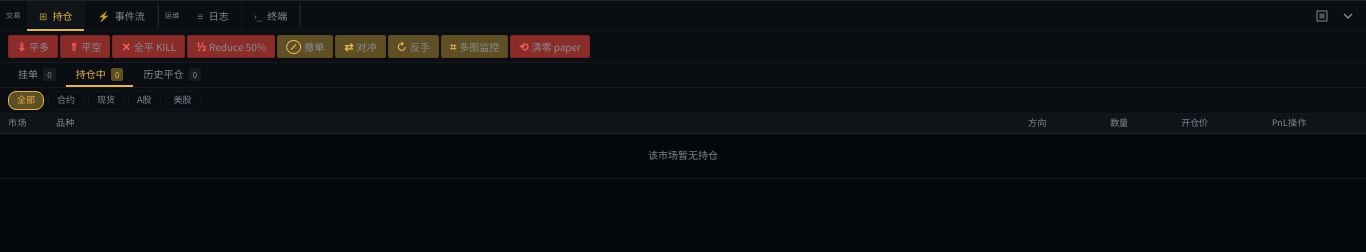
it: 异动待批条 — 只在有料/出错时现身 › 读接口挂掉 → 明说「不可达」,不降级成「暂无待批」
What coordinates should you click on to do the following:
click the button with class "dtab" showing "⚡ 事件流"
I would click on:
 (122, 16)
Its box is left=85, top=1, right=158, bottom=30.
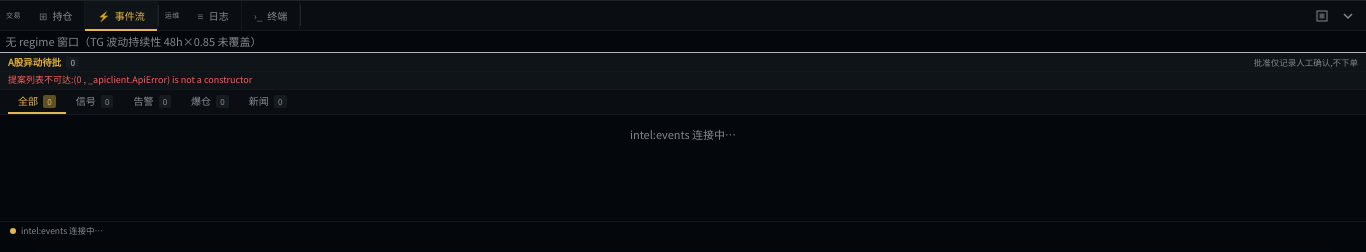
Check: the text with class "ap-error" shows "不可达", box left=8, top=73, right=252, bottom=86
